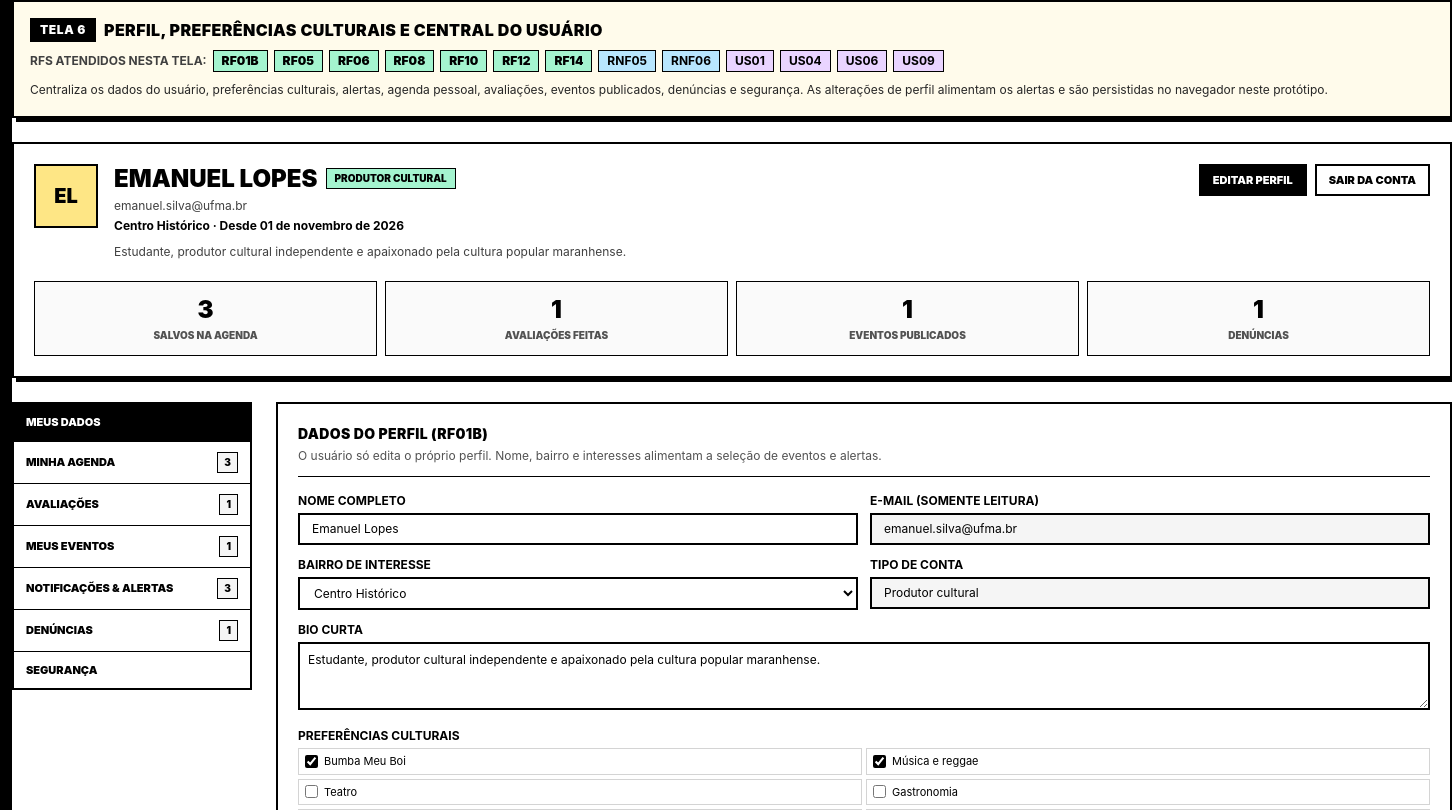
ProfilePage › lista os eventos salvos na aba Minha agenda
Click the tab "Minha agenda 3". click: x=132, y=462
box: [14,442,250,484]
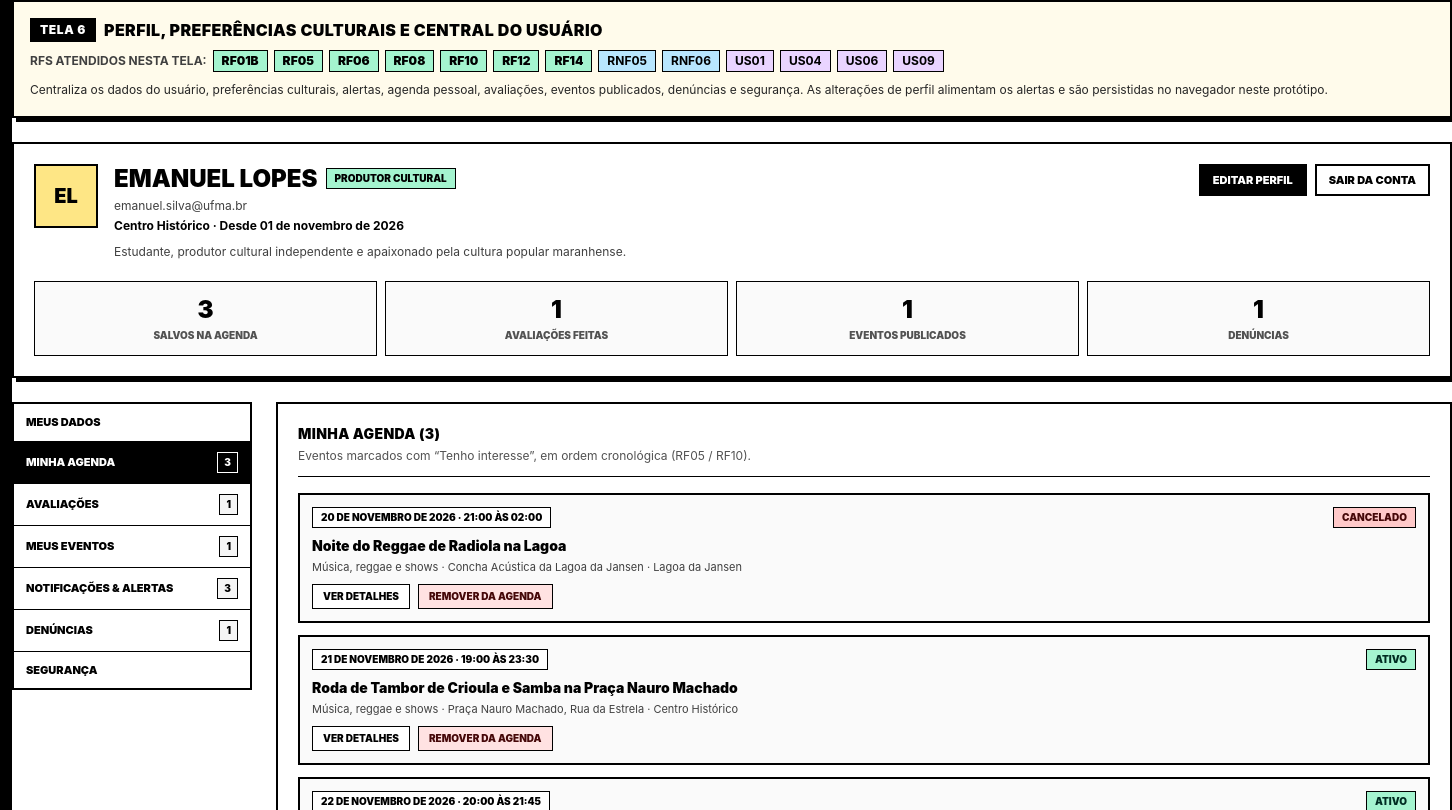
Expected: the link "Roda de Tambor de Crioula e Samba na Praça Nauro Machado" is shown, [312,679,738,696]
